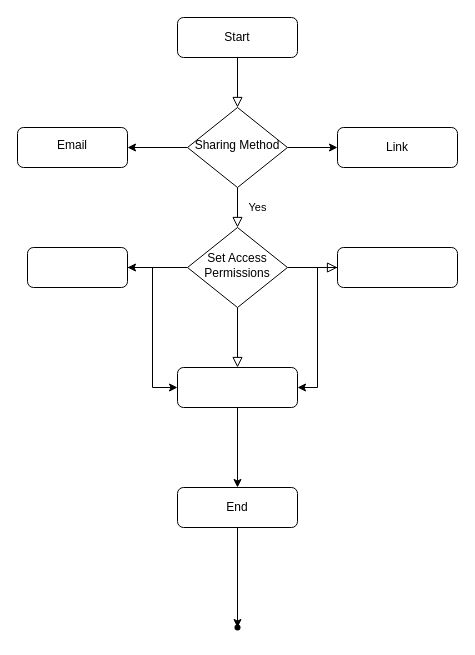
The diagram is 475 pixels wide and 655 high, and some of its shapes have lost their labels. The box of each missing label's shape, as (x1, y1, x2, y2) in pixels:
Confirm Sharing: (176, 366, 298, 408)
Edit access: (26, 246, 128, 288)
View Only: (336, 246, 458, 288)
